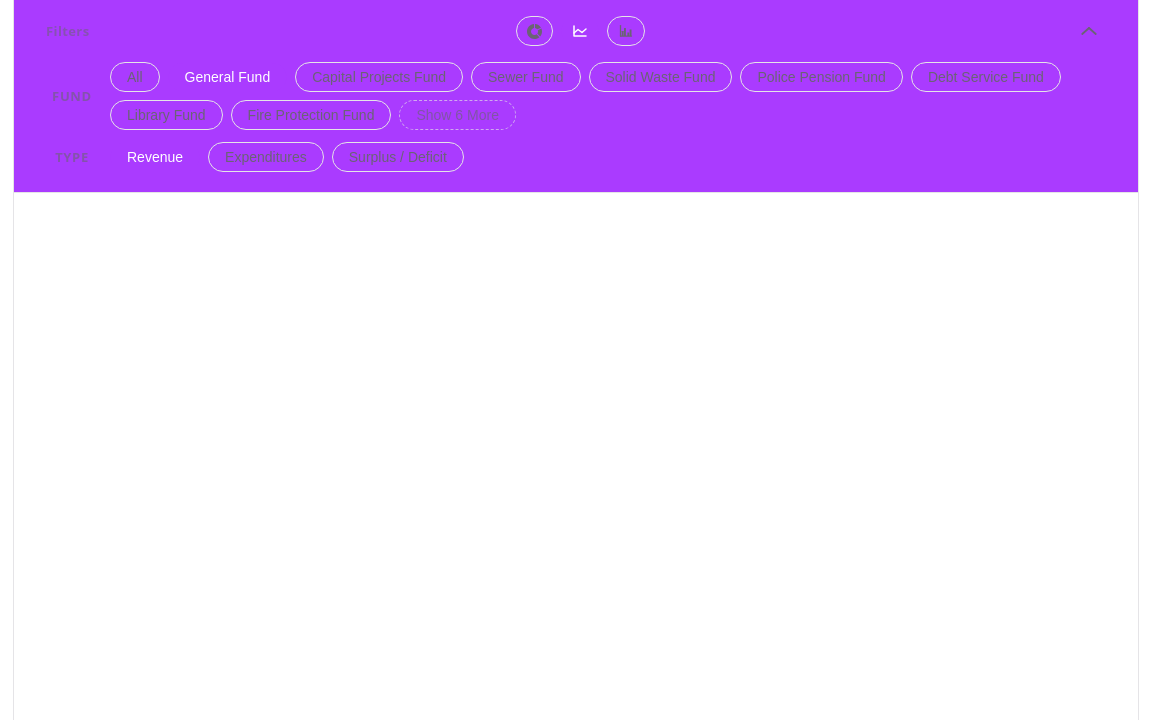
Controls — trends view › expands to show all funds when Show More is clicked
Click the button "Show 6 More": (458, 115) [399, 100, 516, 130]
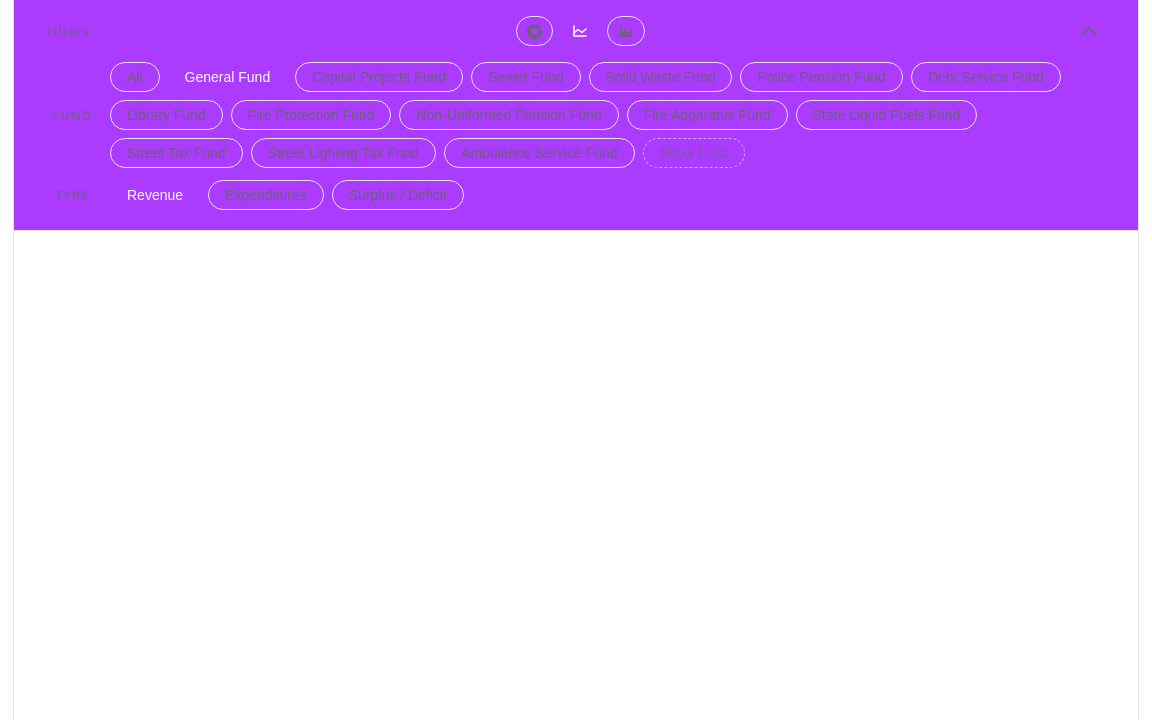
Expected: the button "Non-Uniformed Pension Fund" is shown, [399, 100, 619, 130]
Expected: the button "Fire Apparatus Fund" is shown, [627, 100, 788, 130]
Expected: the button "State Liquid Fuels Fund" is shown, [796, 100, 977, 130]
